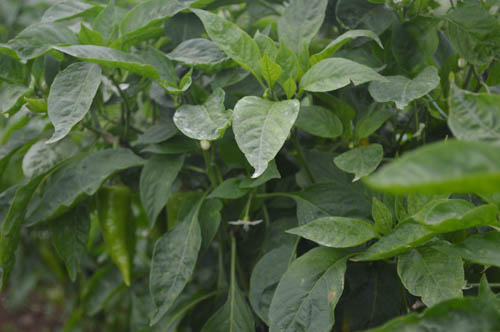ChiliPepper: (97, 185, 136, 284)
